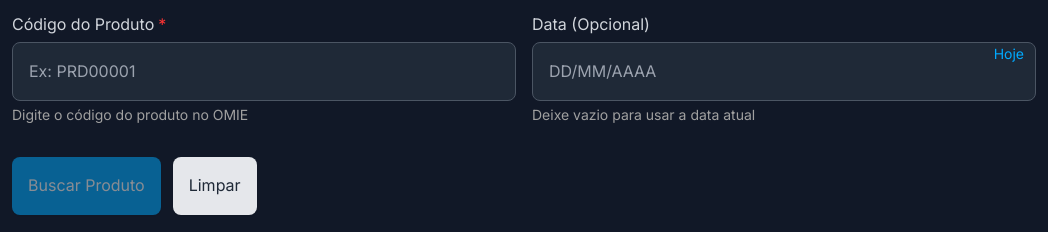
Scenario: ProductSearch Component › should fill current date when "Hoje" button is clicked
Click the button with aria-label "preencher com a data de hoje". click: (1009,54)
box: [990,44,1028,64]
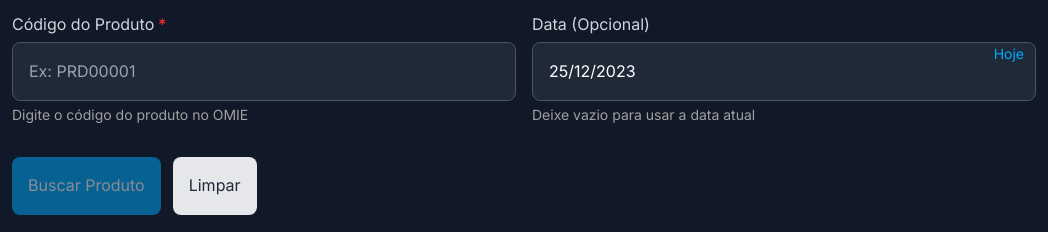
Check: the field labelled "Data (Opcional)" holds "25/12/2023", box [532,42,1036,101]
